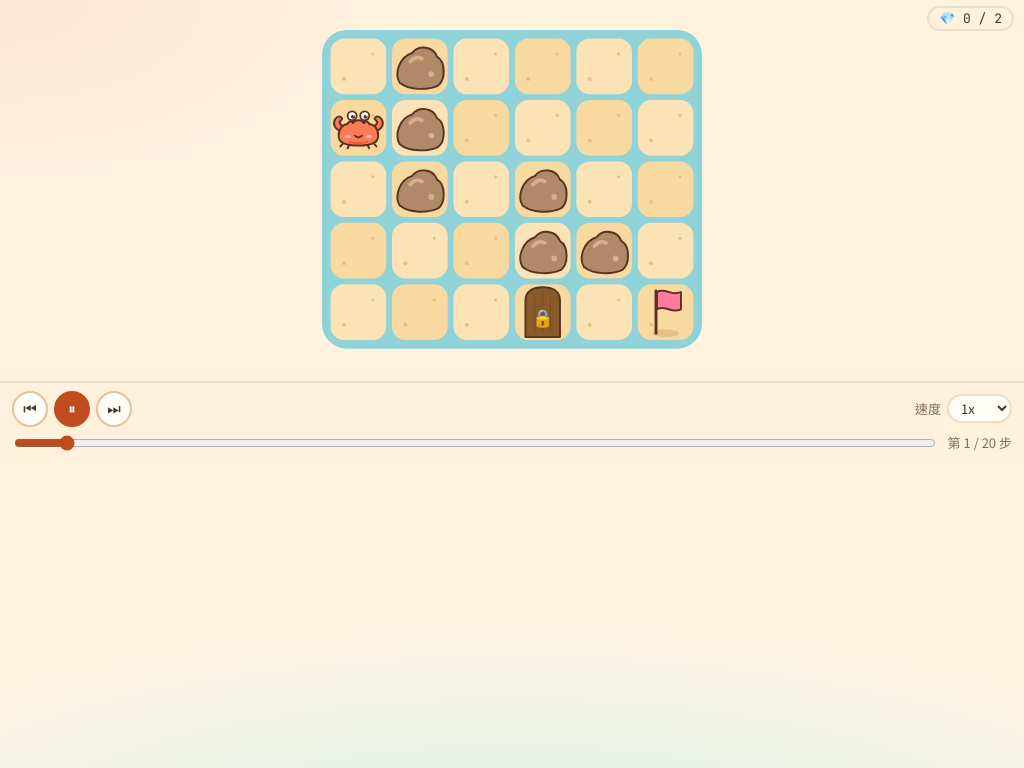
Scenario: F4 GridWorld › 自動播放與播放控制 › 從頭回到第 0 步初始地圖並暫停
Set the slider named "進度" to "10" at (475, 443), box [14,435,936,451]
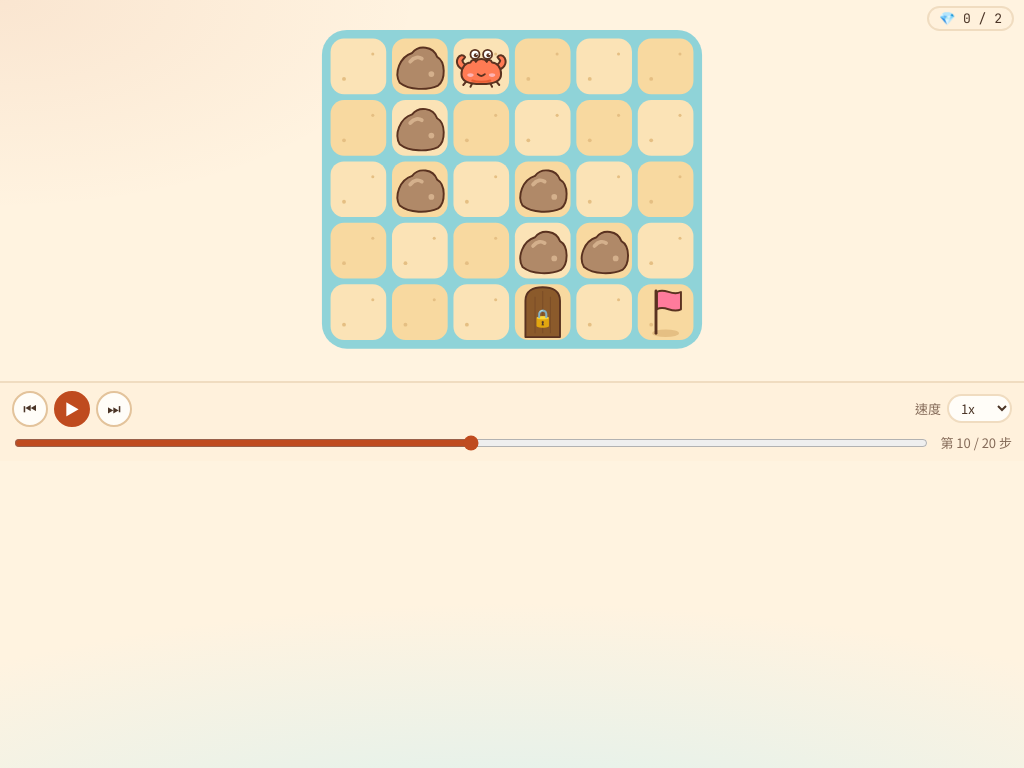
Click the button named "從頭" at (30, 409), box [12,391,48,427]
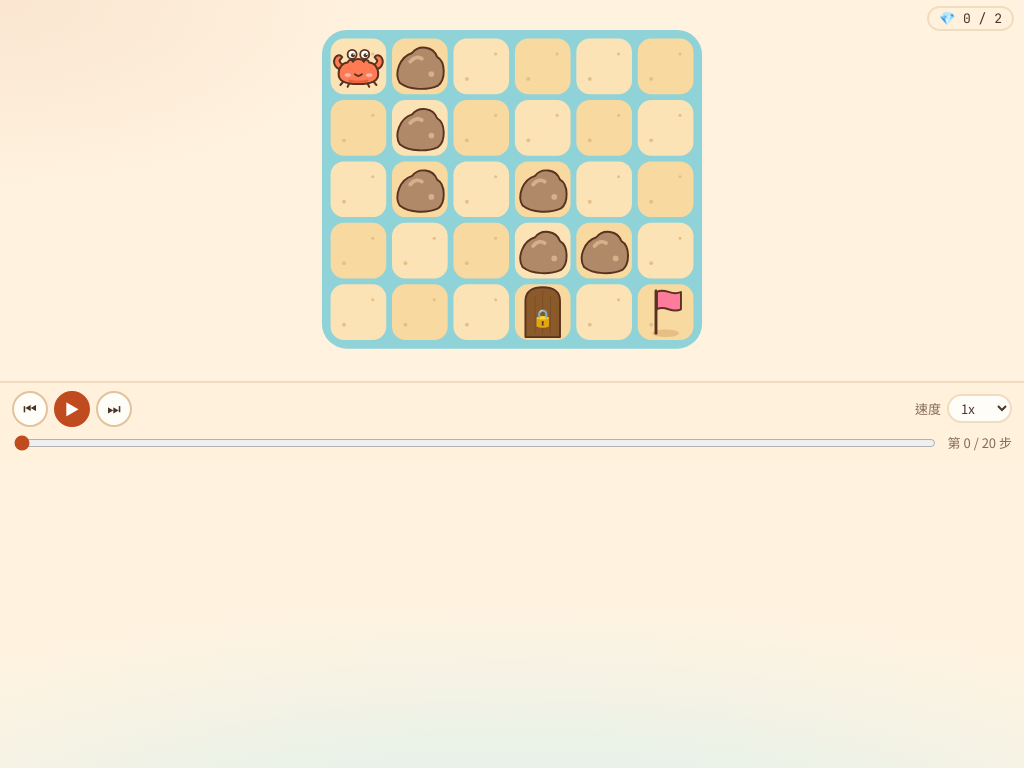
Expected: the button named "播放" is shown, [54,391,90,427]
Result: the text with test id "step-label" reads "第 0 / 20 步" at [948,433,1012,452]
